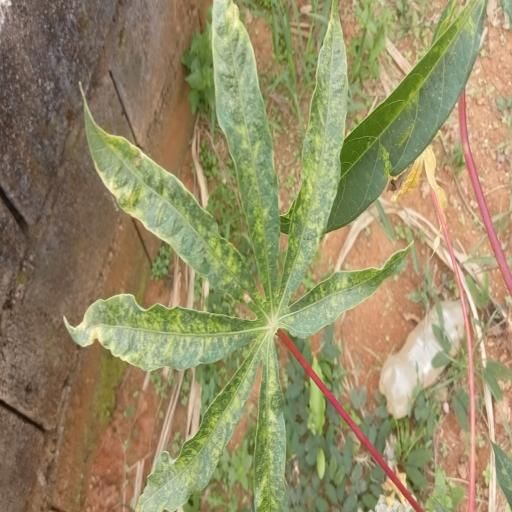Cassava_Mosaic: (62, 0, 415, 512)
